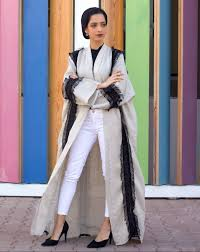middle_eastern_Female: (84, 7, 111, 46)
